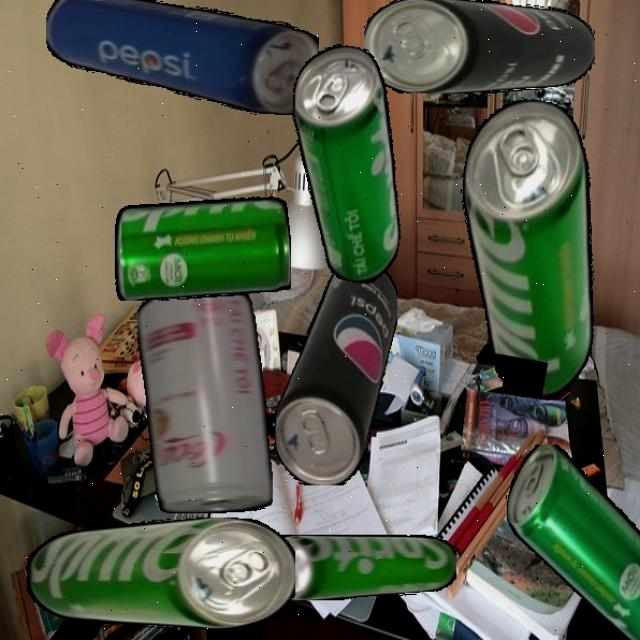debris: (428, 90, 632, 408), (263, 39, 431, 288), (45, 0, 319, 115), (137, 284, 273, 514), (25, 518, 295, 629), (274, 259, 397, 485), (504, 443, 640, 639), (364, 0, 595, 93), (114, 196, 291, 300), (257, 534, 456, 600)
